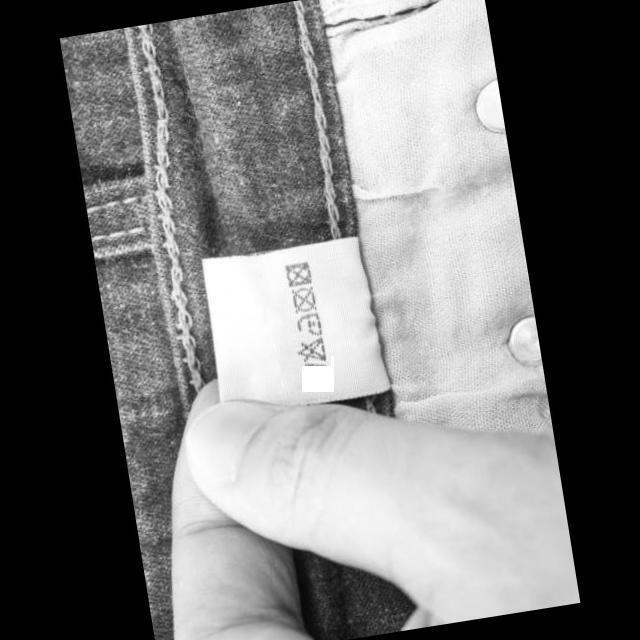DN_bleach: (294, 332, 330, 365)
DN_dry_clean: (290, 282, 320, 316)
DN_tumble_dry: (284, 258, 314, 289)
iron_low: (294, 309, 326, 340)
